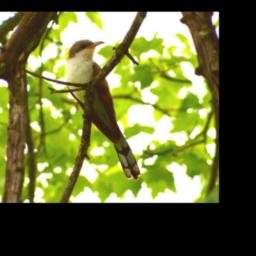Cuckoo: (64, 39, 141, 181)
